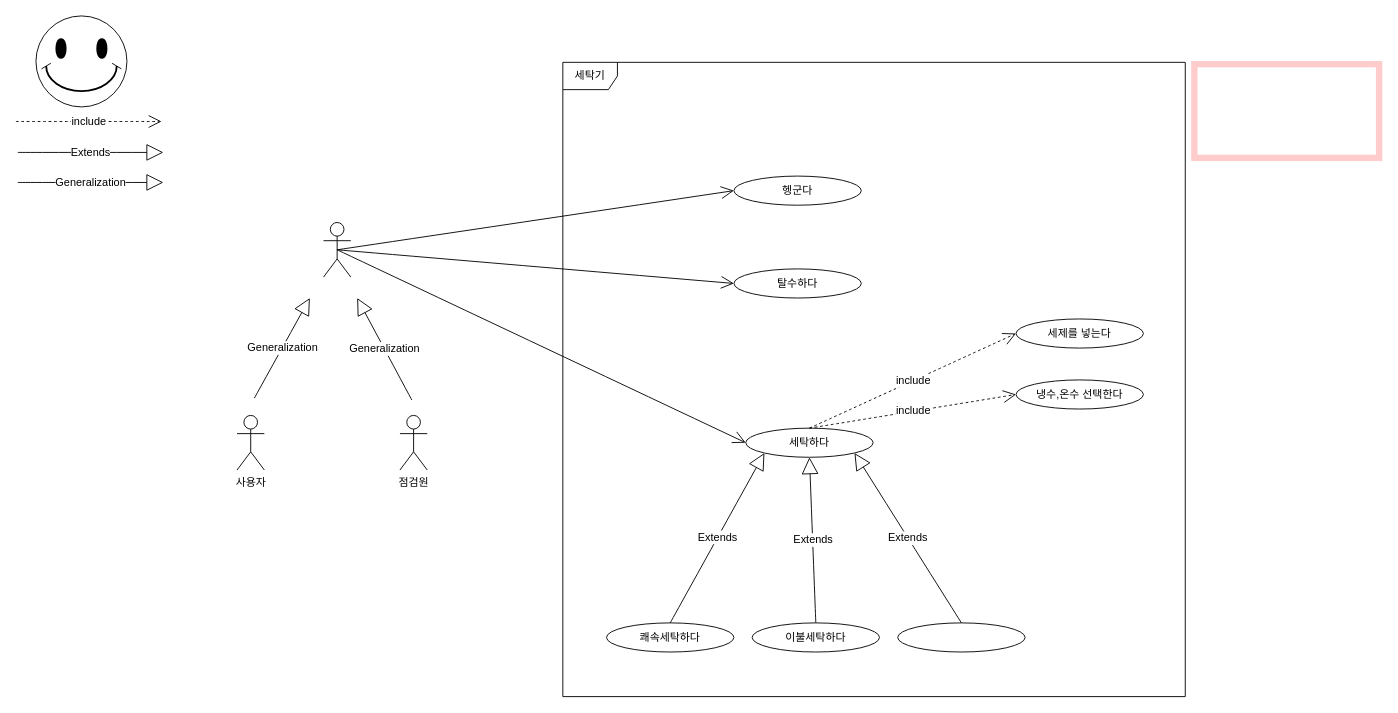
The diagram is 1398 pixels wide and 713 high, and some of its shapes have lost their labels. Here are the shapes that lost their labels. From the top down, the centre of each, then its label:
pixel 1286 111: - 선행...include ->헤드방향 중요 - 세부사항..Extends - 관계..Association
pixel 337 249: 소비자
pixel 961 637: 울세탁하다
